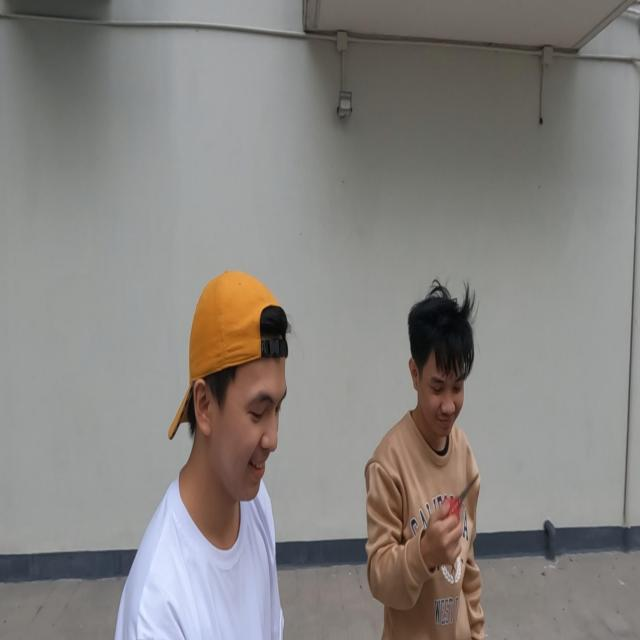scissor: (440, 472, 480, 520)
